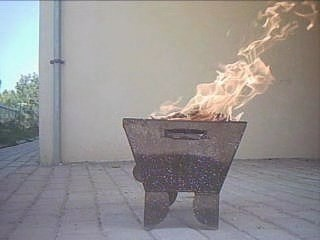fire: (153, 0, 313, 122)
